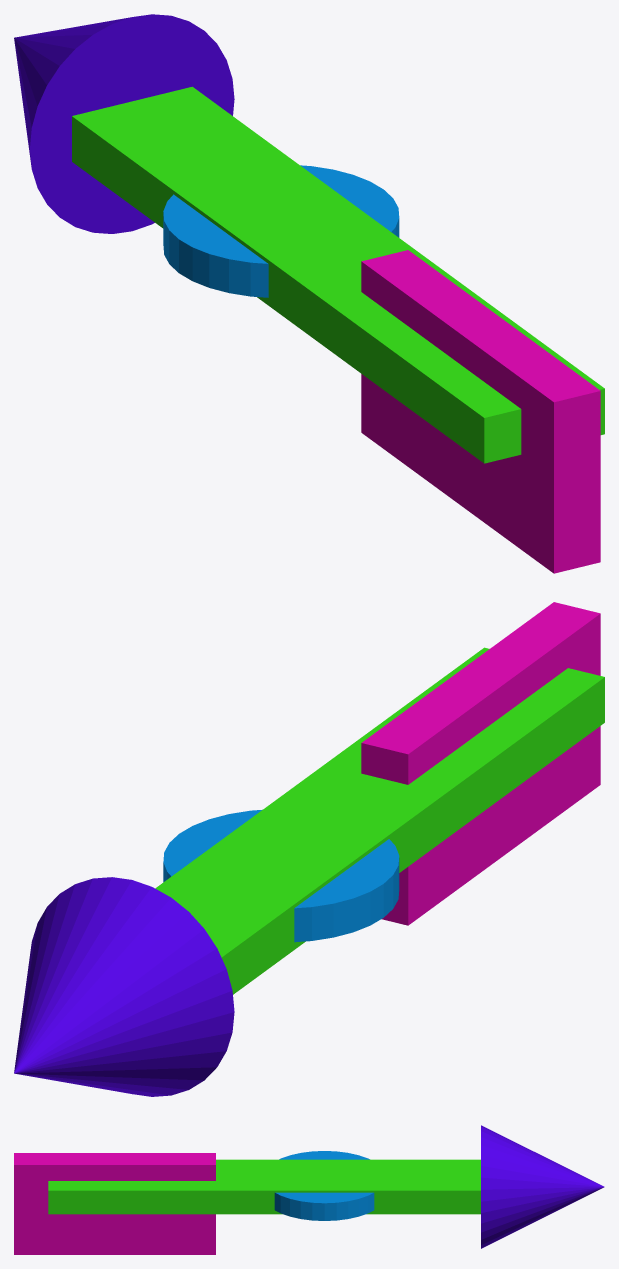
Rendered from rocket.fbx.
3 views of the same model, one above another, from view 1: azimuth 30°, elevation 25°; view 2: azimuth 150°, elevation 25°; view 3: azimuth 270°, elevation 25° (orthographic). The views are drawn at different scales.
Visible parts, largest first — view 1: body, tail, nose, head; view 2: body, nose, tail, head; view 3: body, tail, nose, head.
Boxes of the visible parts, box(x1,y1,x2,y2) form: body: box(72, 86, 604, 463); tail: box(361, 250, 600, 573); nose: box(14, 14, 234, 233); head: box(163, 165, 399, 297); body: box(155, 647, 604, 994); nose: box(14, 877, 234, 1096); tail: box(361, 602, 600, 925); head: box(163, 809, 399, 942); body: box(48, 1159, 480, 1214); tail: box(14, 1153, 215, 1254); nose: box(481, 1125, 604, 1248); head: box(274, 1151, 374, 1220).
Size of the model in its own units: 200 by 210 by 953.
